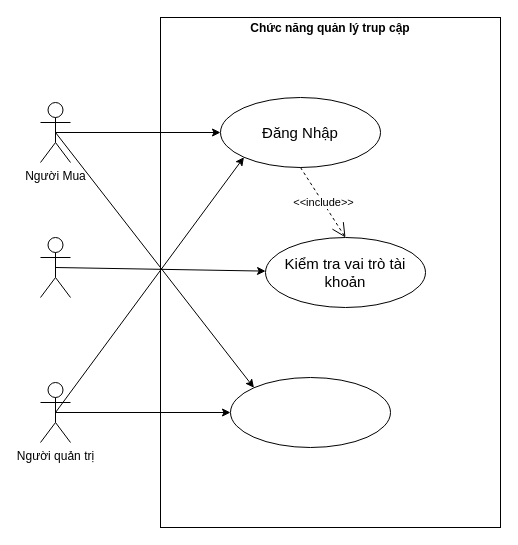
This 518x545 diagram has some shape labels left out. The centre of each missing label's shape, as x and y in pixels:
"Hệ thống" belongs at point 55,267.
"Đăng Ký" belongs at point 310,412.
